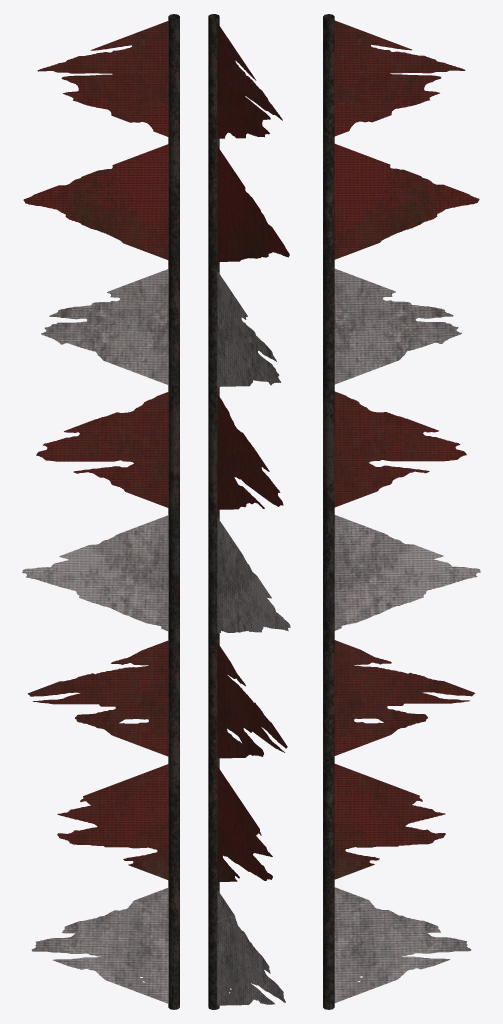
The model's file is HORSE_P_Flag03.FBX.
The picture shows the model from 3 angles, left to right: view 1: azimuth 90°, elevation 25°; view 2: azimuth 210°, elevation 25°; view 3: azimuth 270°, elevation 25°; orthographic projection.
Parts seen in each view (by area): view 1: HORSE_P_Flag03; view 2: HORSE_P_Flag03; view 3: HORSE_P_Flag03.
Part boxes in pixels (x1=…): HORSE_P_Flag03: x1=22, y1=14, x2=179, y2=1009; HORSE_P_Flag03: x1=208, y1=14, x2=290, y2=1009; HORSE_P_Flag03: x1=323, y1=14, x2=480, y2=1009.
Bounding box in the file's own units: 4 × 378 × 57.34.
